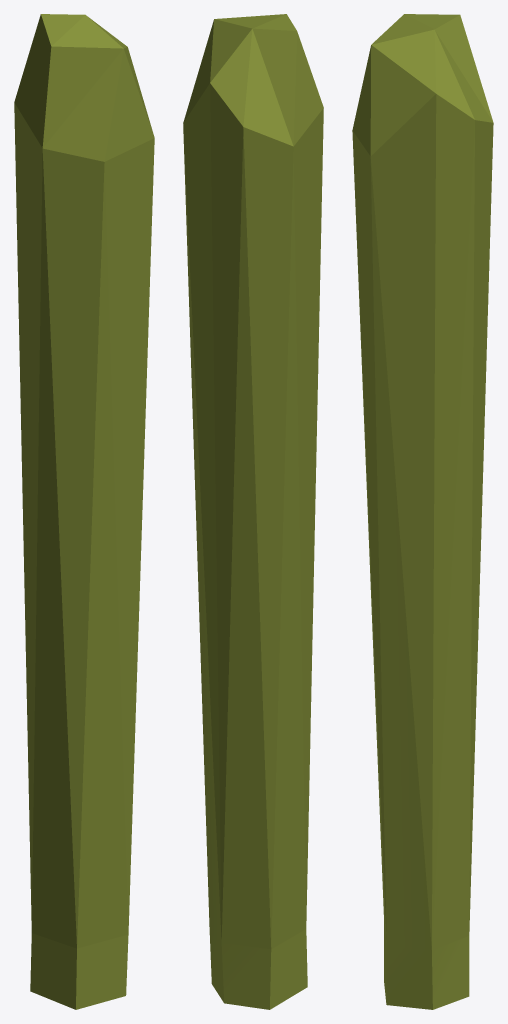
Rendered from ea_swamp_grass_01a_pre__10__lev1.glb.
The picture shows the model from 3 angles, left to right: view 1: azimuth 30°, elevation 25°; view 2: azimuth 210°, elevation 25°; view 3: azimuth 270°, elevation 25°; orthographic projection.
Parts seen in each view (by area): view 1: ea_swamp_grass_01a_pre__10__lev1; view 2: ea_swamp_grass_01a_pre__10__lev1; view 3: ea_swamp_grass_01a_pre__10__lev1.
Part boxes in pixels (<box>): ea_swamp_grass_01a_pre__10__lev1: <box>14,14,154,1009</box>; ea_swamp_grass_01a_pre__10__lev1: <box>183,14,323,1009</box>; ea_swamp_grass_01a_pre__10__lev1: <box>352,14,493,1009</box>.
Size of the model in its own units: 0.2495 by 2.13 by 0.281.
Materials: 1 (1 with a texture image).
